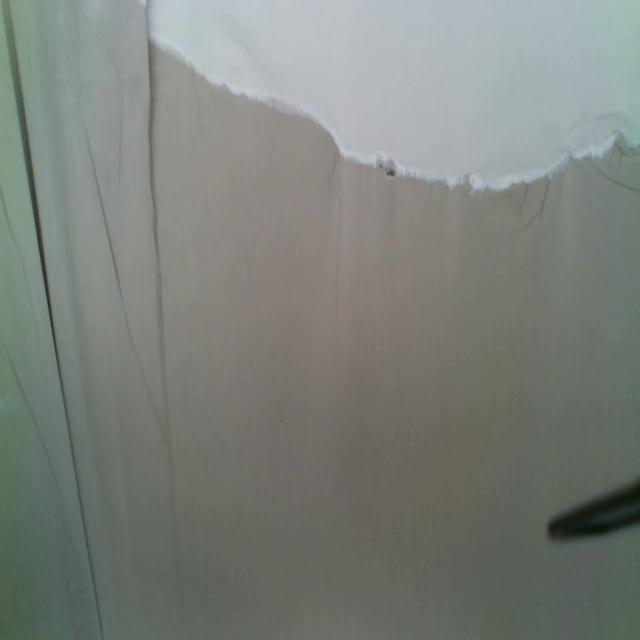crease: (81, 123, 163, 432), (4, 338, 61, 492), (0, 185, 41, 338), (332, 193, 343, 345)
hole: (379, 162, 396, 178)
